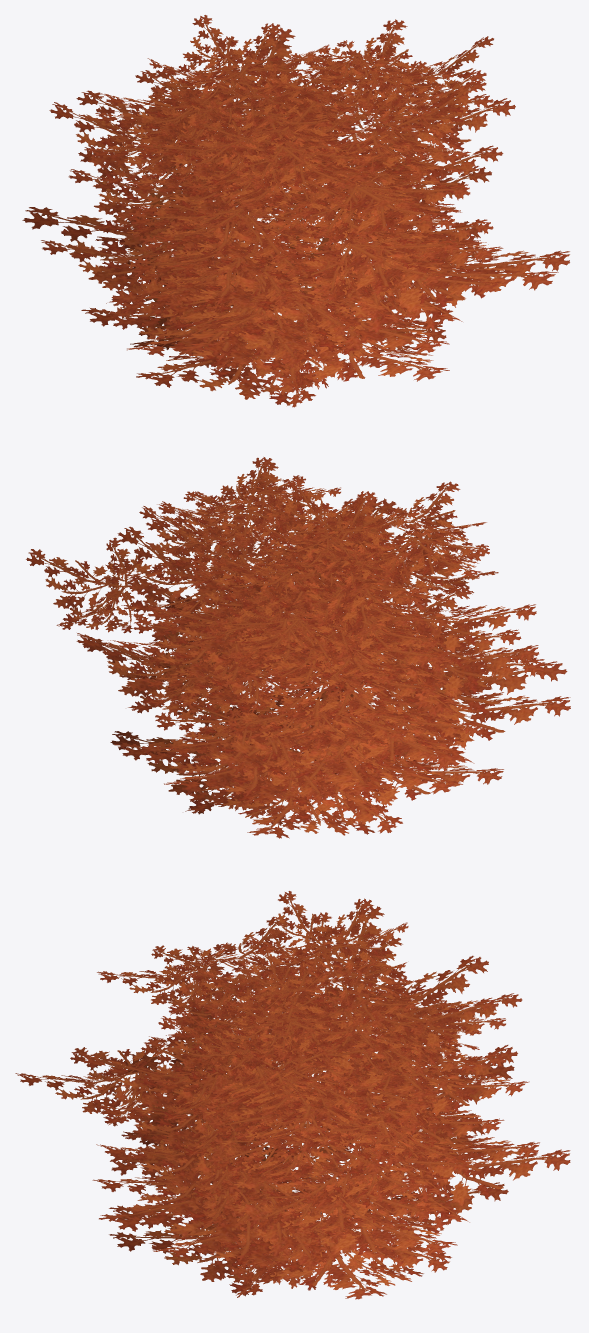
The picture shows the model from 3 angles, top to bottom: view 1: azimuth 30°, elevation 25°; view 2: azimuth 150°, elevation 25°; view 3: azimuth 270°, elevation 25°; orthographic projection. The views are drawn at different scales.
Visible parts, largest first — view 1: body0_model0_lod0_mesh0; view 2: body0_model0_lod0_mesh0; view 3: body0_model0_lod0_mesh0.
Part boxes in pixels (x1,y1,x2,y2): body0_model0_lod0_mesh0: (22, 15, 569, 407); body0_model0_lod0_mesh0: (26, 457, 570, 838); body0_model0_lod0_mesh0: (15, 891, 570, 1299).
Size of the model in its own units: 705 by 455 by 717.
Materials: 1 (1 with a texture image).
